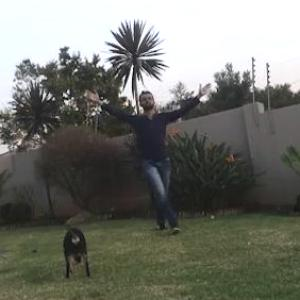takeoff: (86, 82, 211, 218)
